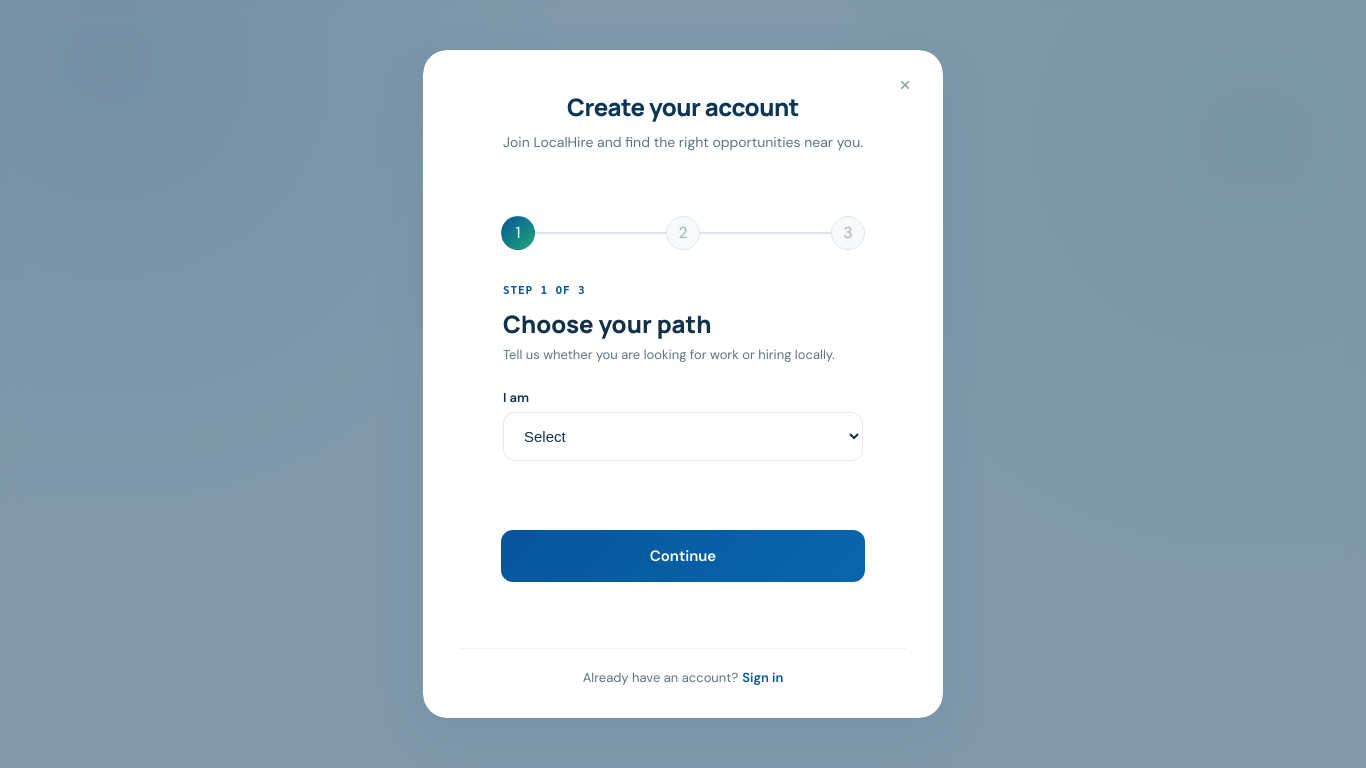
AuthModal › routes backend field errors back to their step
Select "Hiring" in the dropdown with id "auth-role" at x=683, y=436, box [503, 412, 863, 461]
Click the button with class "auth-form__submit" at x=683, y=556, box [501, 530, 865, 582]
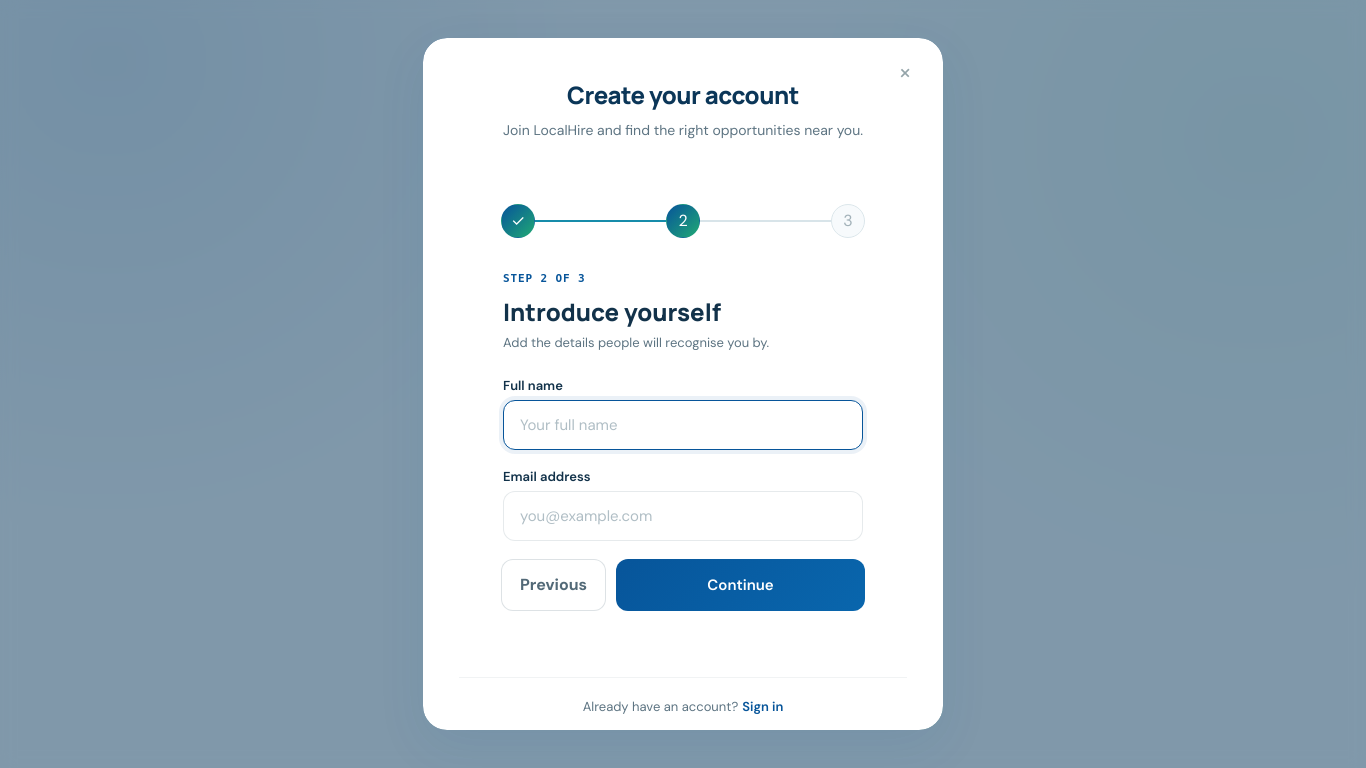
Type "Person" into the field with id "auth-name" at x=683, y=425, box [503, 400, 863, 450]
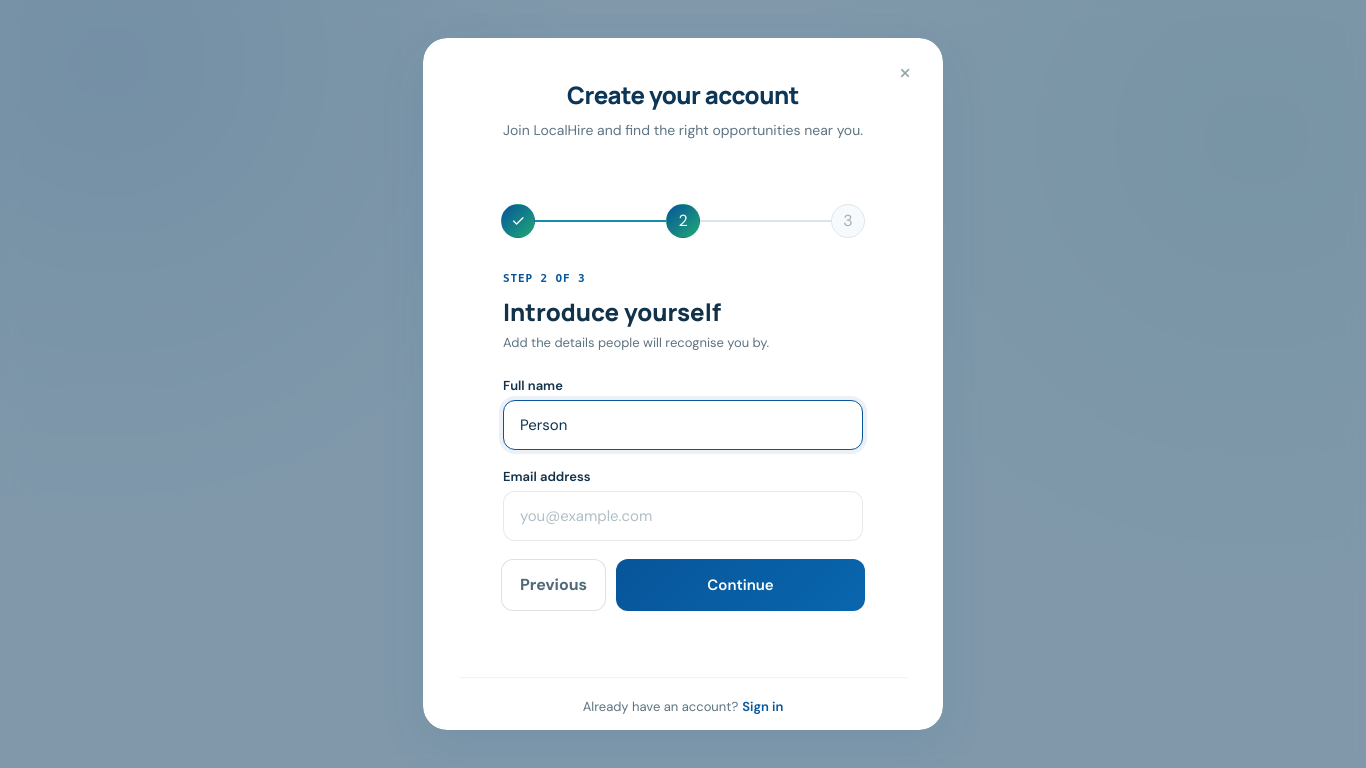
Type "person@example.com" into the field with id "auth-register-email" at x=683, y=516, box [503, 491, 863, 541]
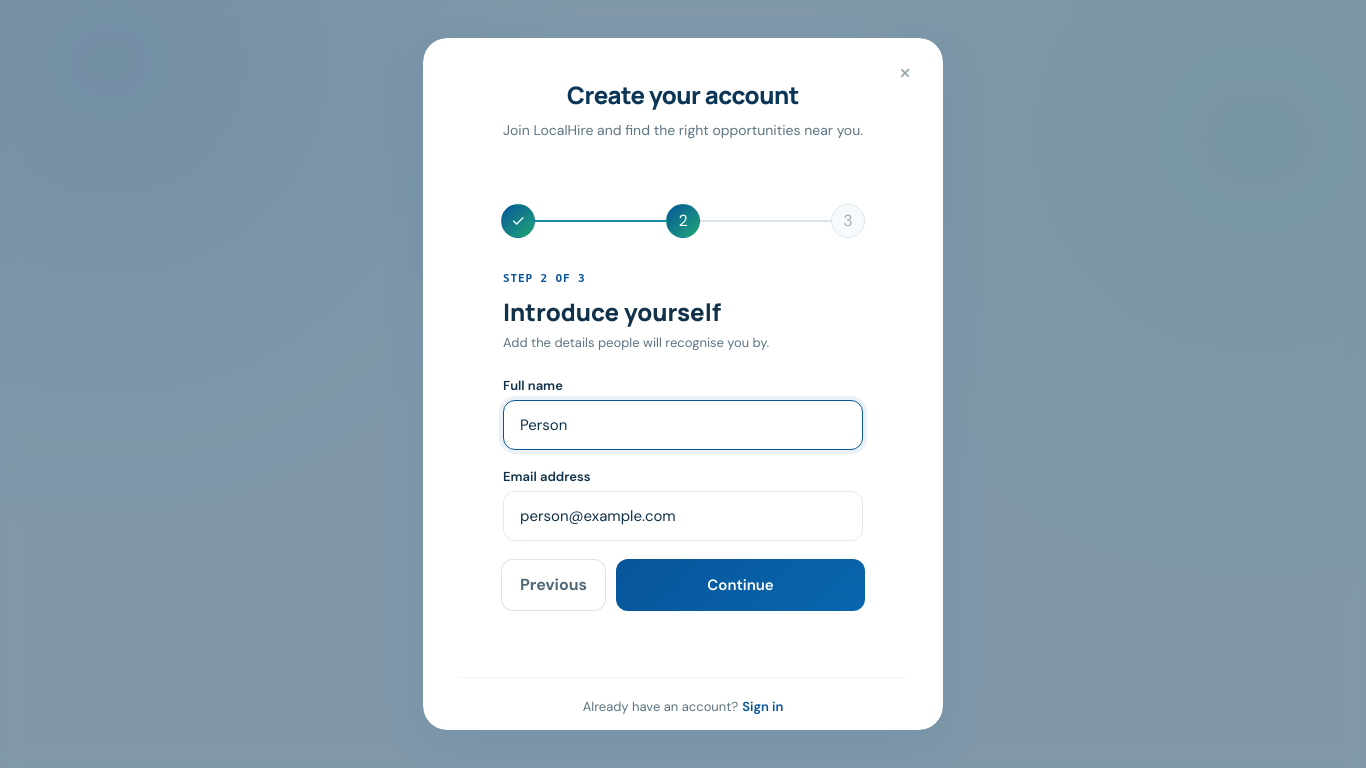
Click the button with class "auth-form__submit" at x=741, y=585, box [616, 559, 865, 611]
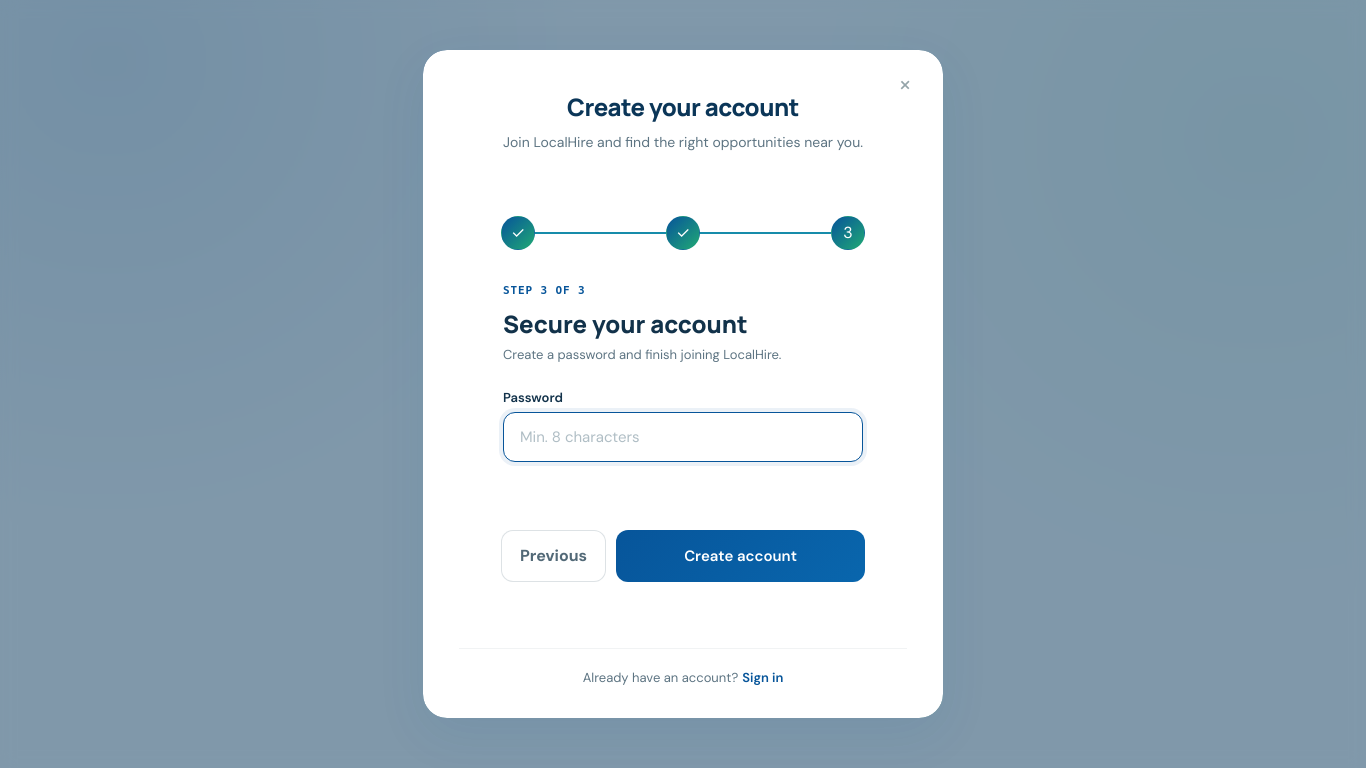
Type "Password1!" into the password field with id "auth-password" at x=683, y=437, box [503, 412, 863, 462]
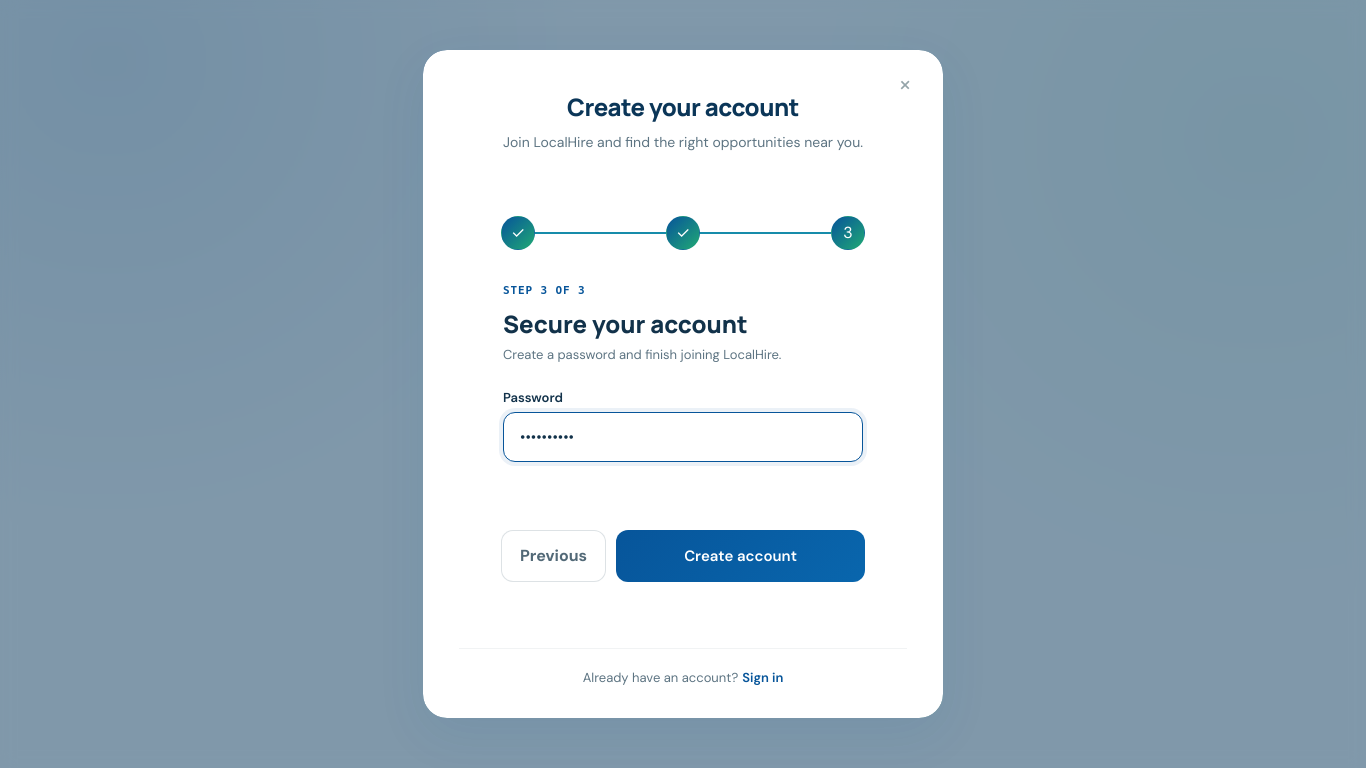
Submit the form, box [501, 216, 865, 582]
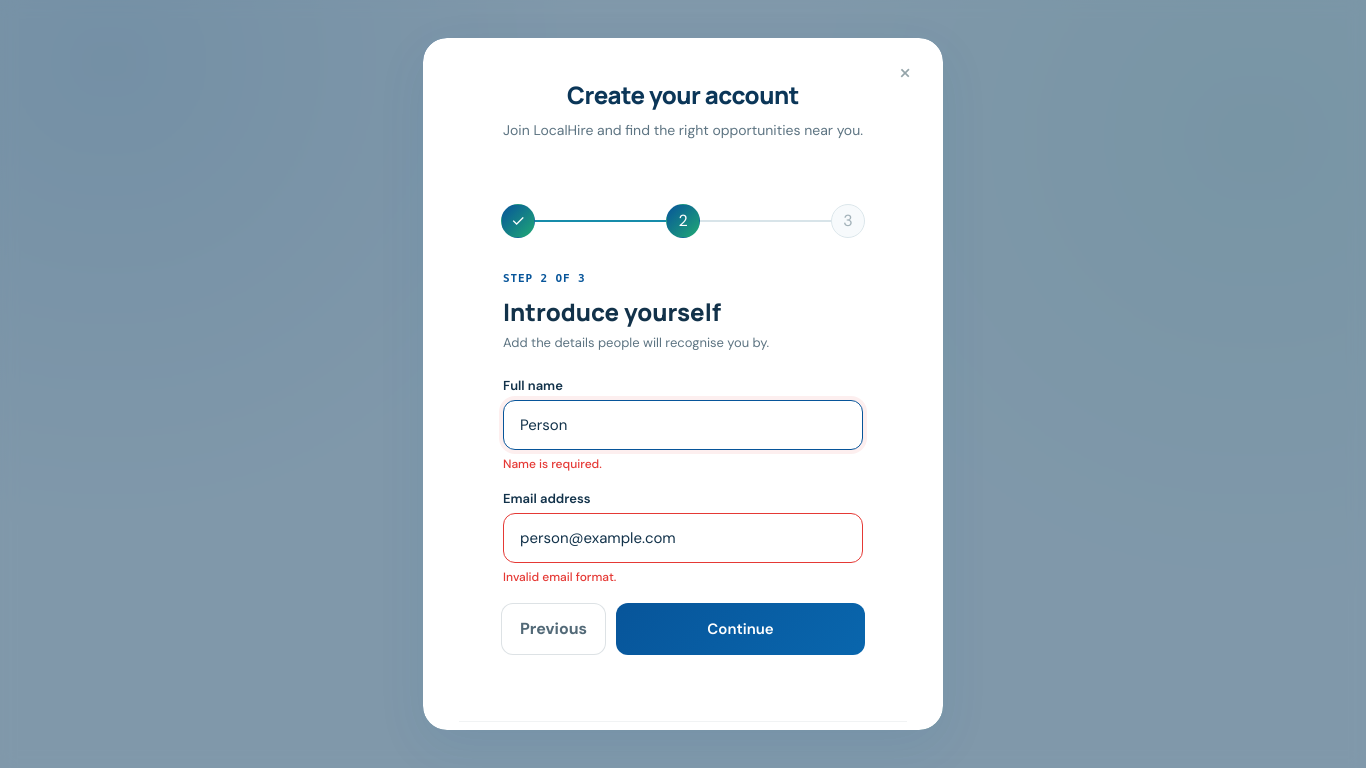
Now the text "Step 2 of 3" is shown, box [503, 272, 586, 285]
Now the field with id "auth-name" is shown, box [503, 400, 863, 450]
Now the elements with class "auth-field__error" read "Name is required.", "Invalid email format.", in this order, box [503, 456, 602, 472]; [503, 569, 616, 585]
